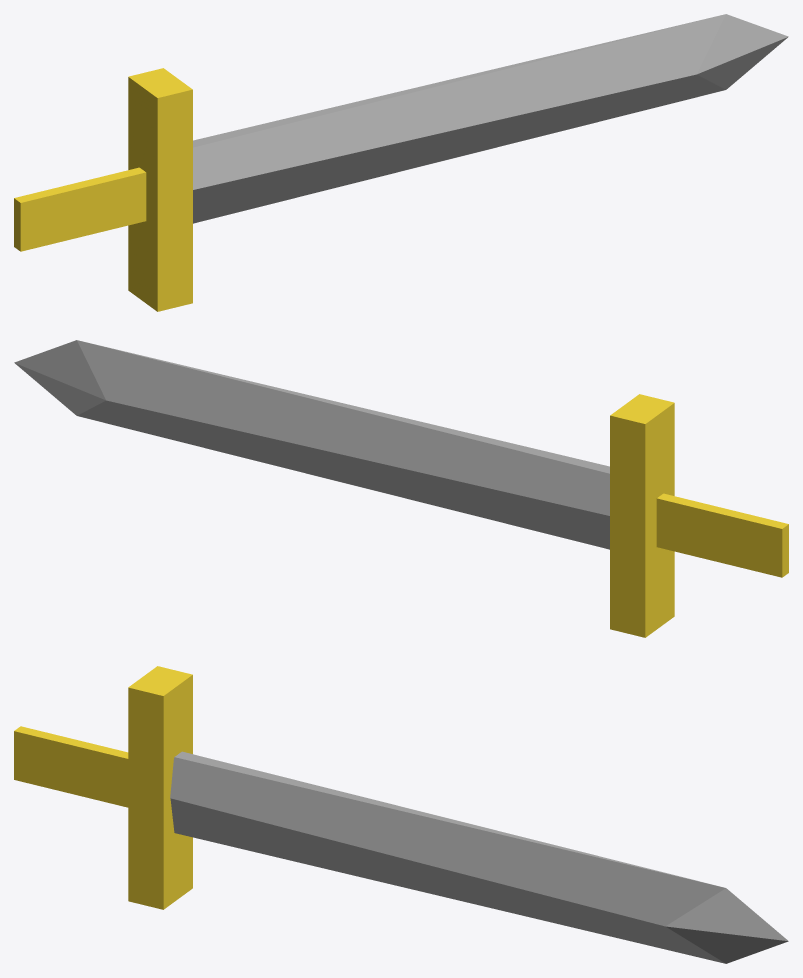
Rendered from YellowSword.fbx.
3 views of the same model, one above another, from view 1: azimuth 30°, elevation 25°; view 2: azimuth 150°, elevation 25°; view 3: azimuth 330°, elevation 25° (orthographic).
Visible parts, largest first — view 1: Cube.009; view 2: Cube.009; view 3: Cube.009.
Part boxes in pixels (left/top/right/bottom): Cube.009: left=14, top=14, right=788, bottom=311; Cube.009: left=14, top=340, right=788, bottom=637; Cube.009: left=14, top=666, right=788, bottom=963.
Bounding box in the file's own units: 61.47 × 16.27 × 4.33.
